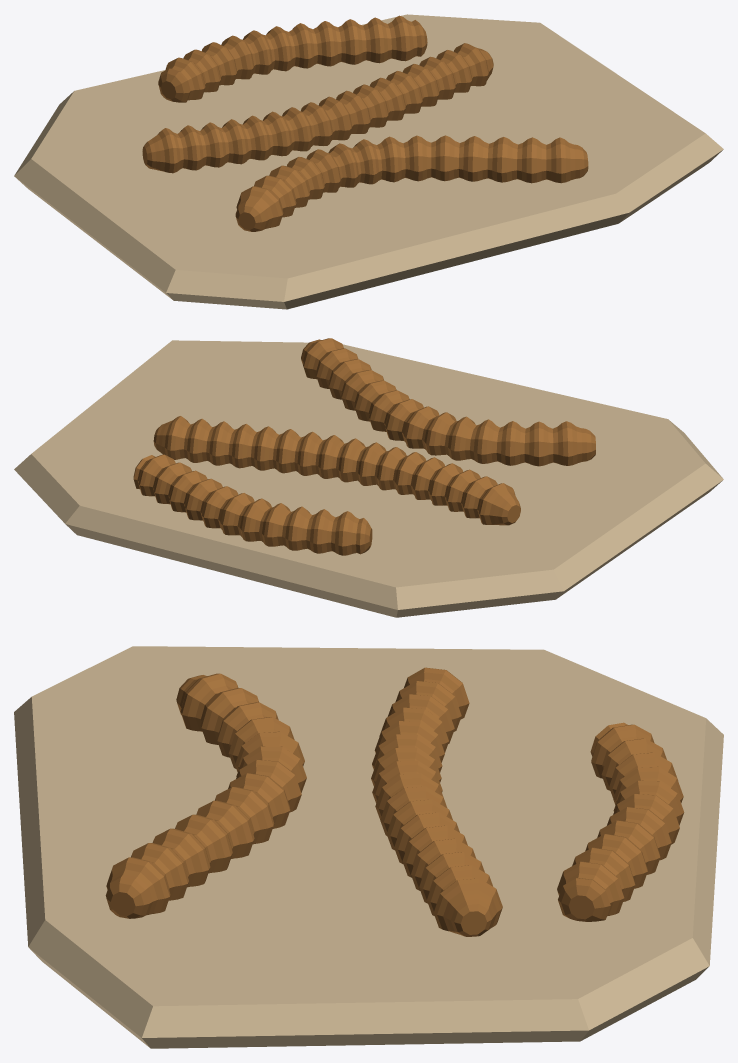
The picture shows the model from 3 angles, top to bottom: view 1: azimuth 30°, elevation 25°; view 2: azimuth 150°, elevation 25°; view 3: azimuth 270°, elevation 25°; orthographic projection. The views are drawn at different scales.
Visible parts, largest first — view 1: illustrative_sediment_support, continuous_transversely_annulated_casts; view 2: illustrative_sediment_support, continuous_transversely_annulated_casts; view 3: illustrative_sediment_support, continuous_transversely_annulated_casts.
Boxes of the visible parts, x1,y1,x2,y2 form: illustrative_sediment_support: (14, 14, 723, 309); continuous_transversely_annulated_casts: (142, 15, 588, 231); illustrative_sediment_support: (14, 340, 723, 617); continuous_transversely_annulated_casts: (133, 338, 595, 555); illustrative_sediment_support: (14, 646, 723, 1048); continuous_transversely_annulated_casts: (105, 667, 684, 936).
Size of the model in its own units: 0.24 by 0.0255 by 0.19.
